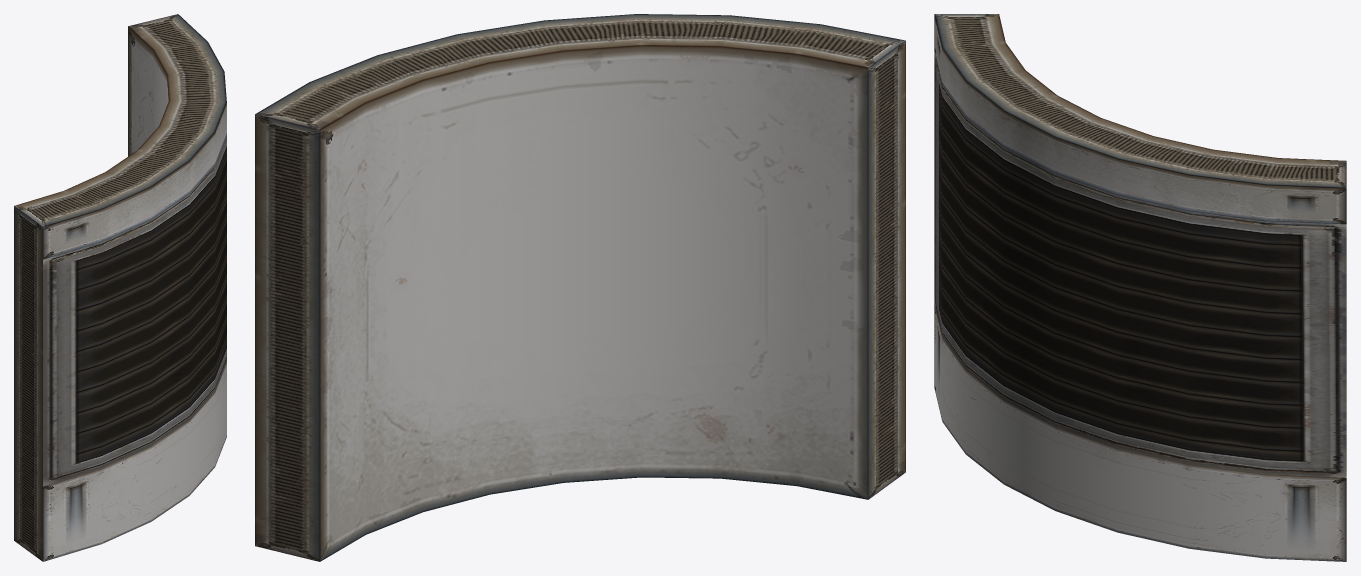
The model's file is scifi_wall_curve1_4.FBX.
3 views of the same model, side by side, from view 1: azimuth 30°, elevation 25°; view 2: azimuth 150°, elevation 25°; view 3: azimuth 270°, elevation 25° (orthographic). The views are drawn at different scales.
Visible parts, largest first — view 1: Plane102; view 2: Plane102; view 3: Plane102.
Boxes of the visible parts, x1,y1,x2,y2 form: Plane102: (14, 14, 226, 561); Plane102: (255, 14, 905, 561); Plane102: (934, 14, 1346, 561).
Bounding box in the file's own units: 254 × 254 × 254.
